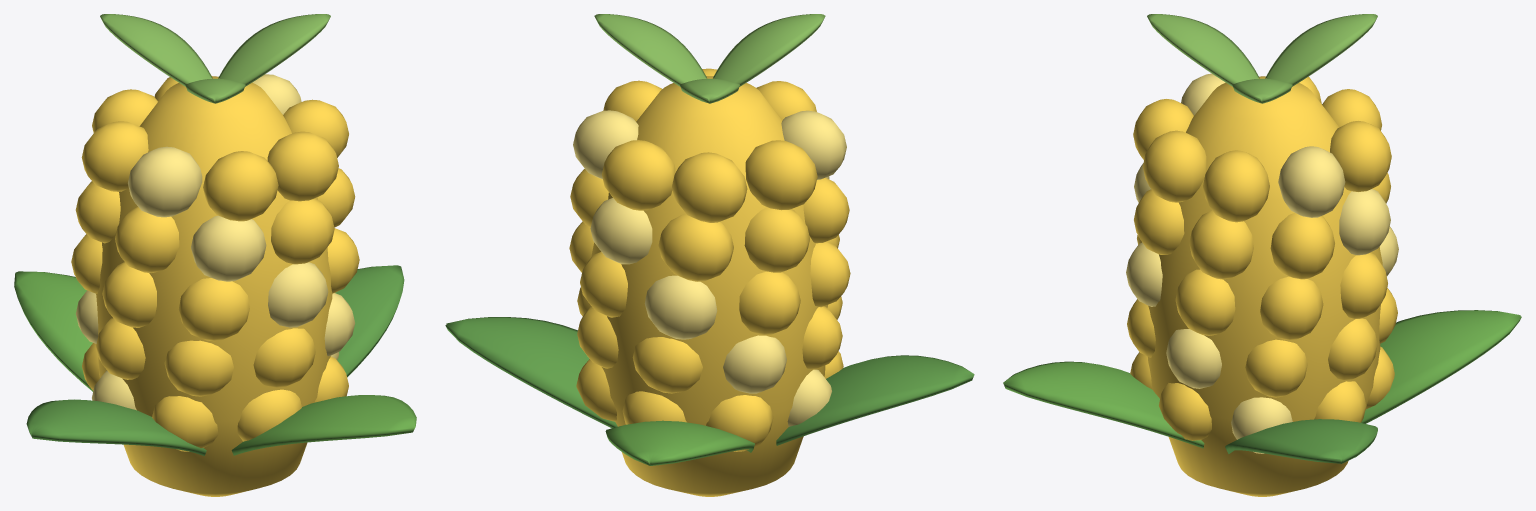
The model's file is corn.glb.
3 renders of one model, left to right at view 1: azimuth 30°, elevation 25°; view 2: azimuth 150°, elevation 25°; view 3: azimuth 270°, elevation 25°, orthographic.
Visible parts, largest first — view 1: Corn | cob.001, Corn | parted husk.004, Corn | parted husk.007, Corn | parted husk.006, Corn | parted husk.005, Corn | rounded kernel.044, Corn | rounded kernel.077, Corn | rounded kernel.057, Corn | rounded kernel.062, Corn | top silk leaf.003, Corn | top silk leaf.004, Corn | rounded kernel.054 (+23 smaller); view 2: Corn | cob.001, Corn | parted husk.005, Corn | parted husk.007, Corn | parted husk.006, Corn | rounded kernel.075, Corn | rounded kernel.070, Corn | rounded kernel.061, Corn | rounded kernel.055, Corn | top silk leaf.003, Corn | top silk leaf.005, Corn | rounded kernel.073, Corn | rounded kernel.043 (+20 smaller); view 3: Corn | cob.001, Corn | parted husk.006, Corn | parted husk.004, Corn | parted husk.005, Corn | top silk leaf.004, Corn | top silk leaf.005, Corn | rounded kernel.058, Corn | rounded kernel.045, Corn | rounded kernel.062, Corn | rounded kernel.051, Corn | rounded kernel.060, Corn | rounded kernel.070 (+20 smaller).
Part boxes in pixels (x1,y1,x2,y2): Corn | cob.001: (96, 76, 332, 496); Corn | parted husk.004: (231, 395, 416, 455); Corn | parted husk.007: (26, 399, 206, 455); Corn | parted husk.006: (14, 271, 93, 391); Corn | parted husk.005: (335, 265, 404, 377); Corn | rounded kernel.044: (203, 151, 278, 221); Corn | rounded kernel.077: (128, 146, 202, 217); Corn | rounded kernel.057: (191, 215, 266, 281); Corn | rounded kernel.062: (267, 131, 338, 201); Corn | top silk leaf.003: (218, 14, 330, 86); Corn | top silk leaf.004: (100, 14, 212, 86); Corn | rounded kernel.054: (178, 278, 249, 341); Corn | cob.001: (591, 76, 827, 496); Corn | parted husk.005: (445, 317, 617, 428); Corn | parted husk.007: (776, 355, 974, 445); Corn | parted husk.006: (605, 420, 754, 465); Corn | rounded kernel.075: (672, 152, 747, 222); Corn | rounded kernel.070: (601, 140, 675, 210); Corn | rounded kernel.061: (745, 140, 817, 210); Corn | rounded kernel.055: (658, 214, 733, 281); Corn | top silk leaf.003: (594, 14, 706, 86); Corn | top silk leaf.005: (713, 14, 825, 86); Corn | rounded kernel.073: (644, 275, 717, 339); Corn | rounded kernel.043: (744, 207, 809, 272); Corn | cob.001: (1148, 76, 1382, 496); Corn | parted husk.006: (1361, 310, 1521, 423); Corn | parted husk.004: (1003, 361, 1204, 448); Corn | parted husk.005: (1225, 419, 1377, 463); Corn | top silk leaf.004: (1265, 14, 1377, 86); Corn | top silk leaf.005: (1147, 14, 1259, 86); Corn | rounded kernel.058: (1203, 150, 1269, 222); Corn | rounded kernel.045: (1278, 146, 1345, 217); Corn | rounded kernel.062: (1142, 130, 1206, 202); Corn | rounded kernel.051: (1270, 213, 1334, 279); Corn | rounded kernel.060: (1189, 210, 1253, 279); Corn | rounded kernel.070: (1330, 121, 1391, 191).
Bounding box in the file's own units: 1.39 × 1.31 × 1.39.
